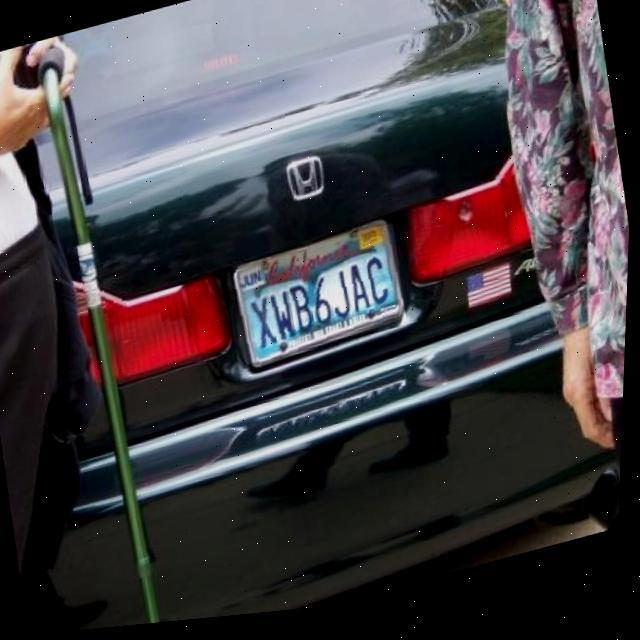LicensePlate: (231, 229, 412, 371)
